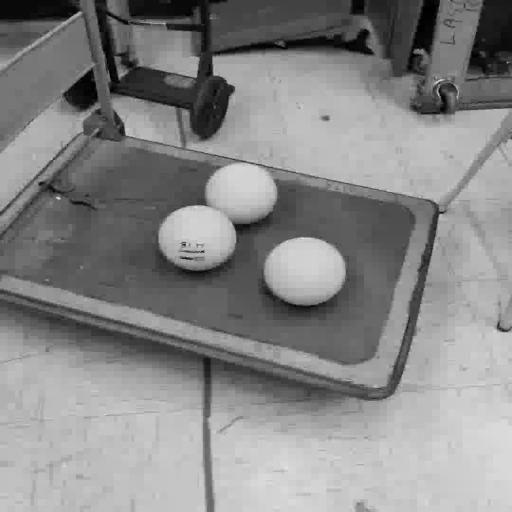fuel: (264, 237, 346, 306), (158, 205, 237, 271), (205, 163, 278, 224)
